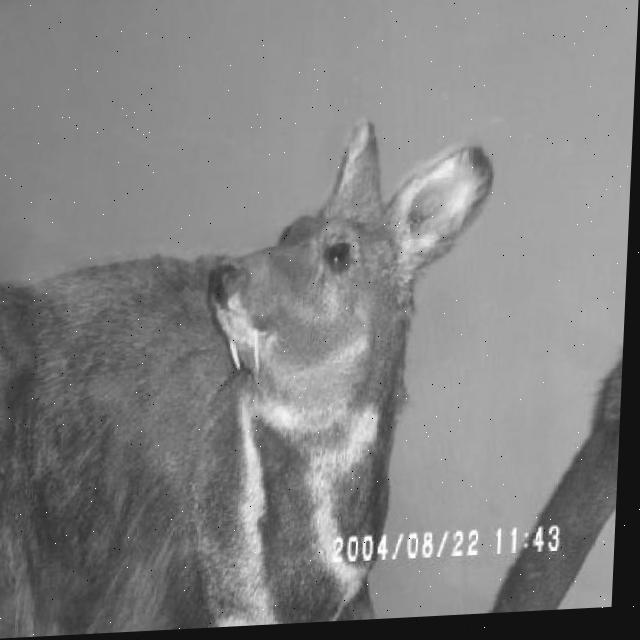Deer: (0, 115, 502, 639)
